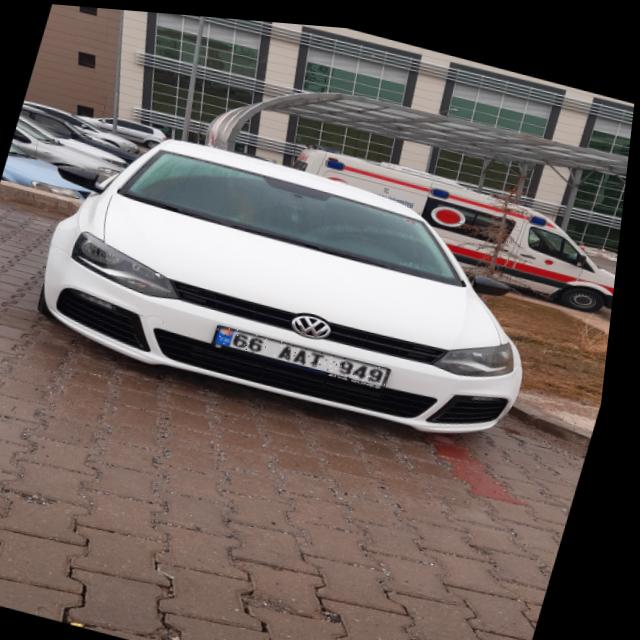license_plate: (218, 320, 399, 380)
